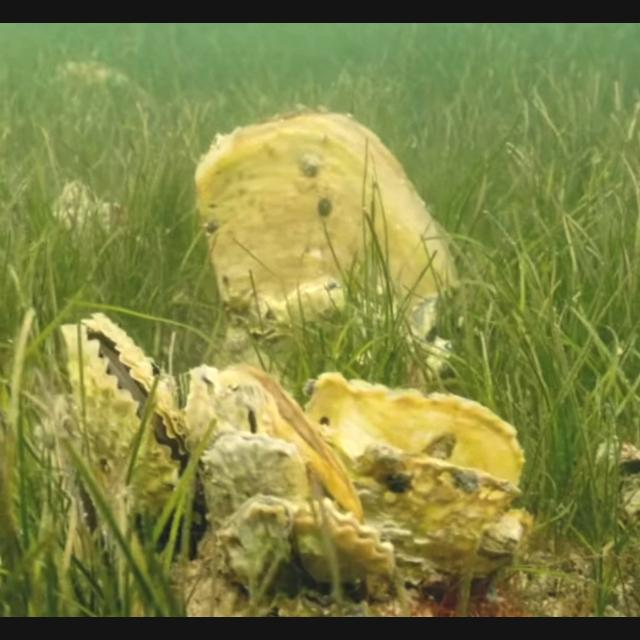Oyster-Closed: (190, 105, 458, 338), (179, 360, 361, 518), (195, 424, 301, 522)
Oyster-Open: (299, 370, 531, 580), (56, 310, 186, 522), (215, 491, 393, 601)
